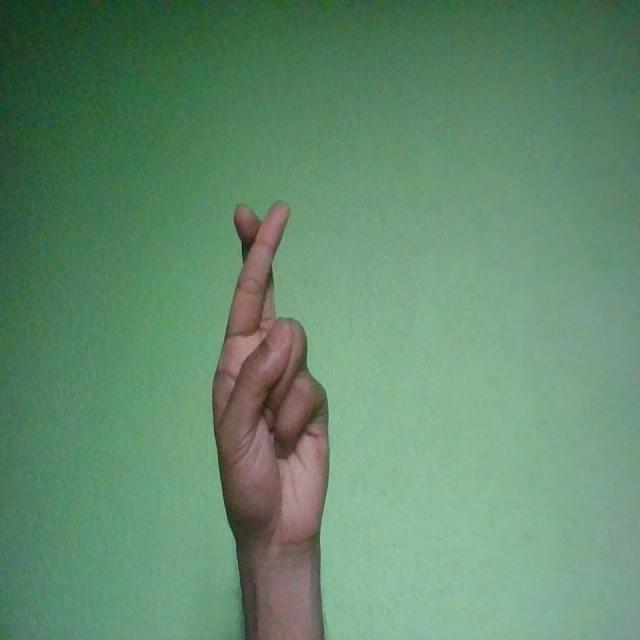Ok: (211, 202, 330, 556)
